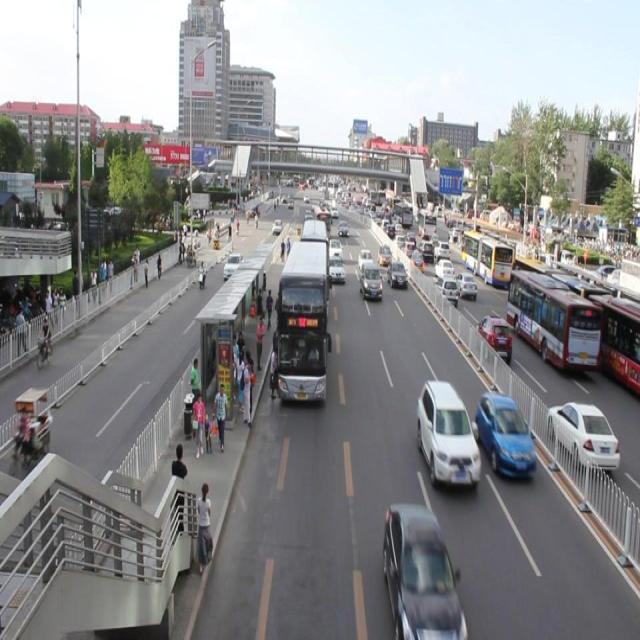car: (382, 506, 461, 628), (416, 376, 480, 490), (474, 392, 536, 479), (359, 262, 381, 299), (386, 258, 406, 290), (326, 255, 344, 284), (326, 236, 341, 262), (357, 248, 372, 269), (377, 244, 391, 264)
van: (279, 238, 326, 403), (300, 219, 329, 317)
